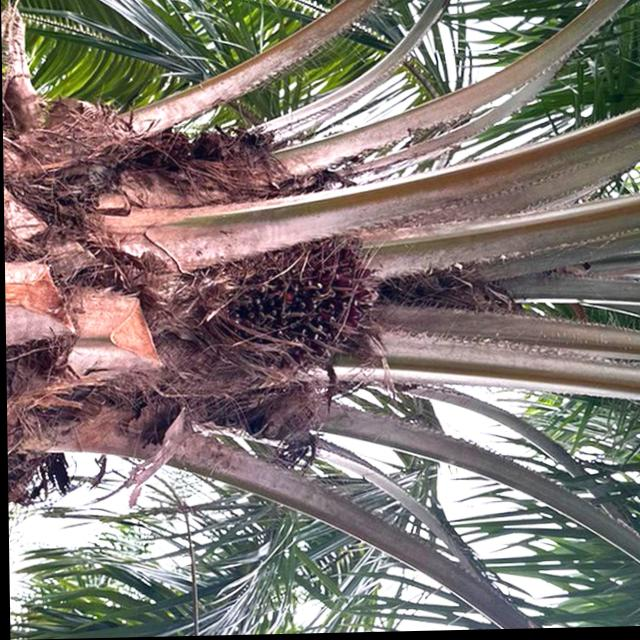ripe: (222, 223, 393, 378)
